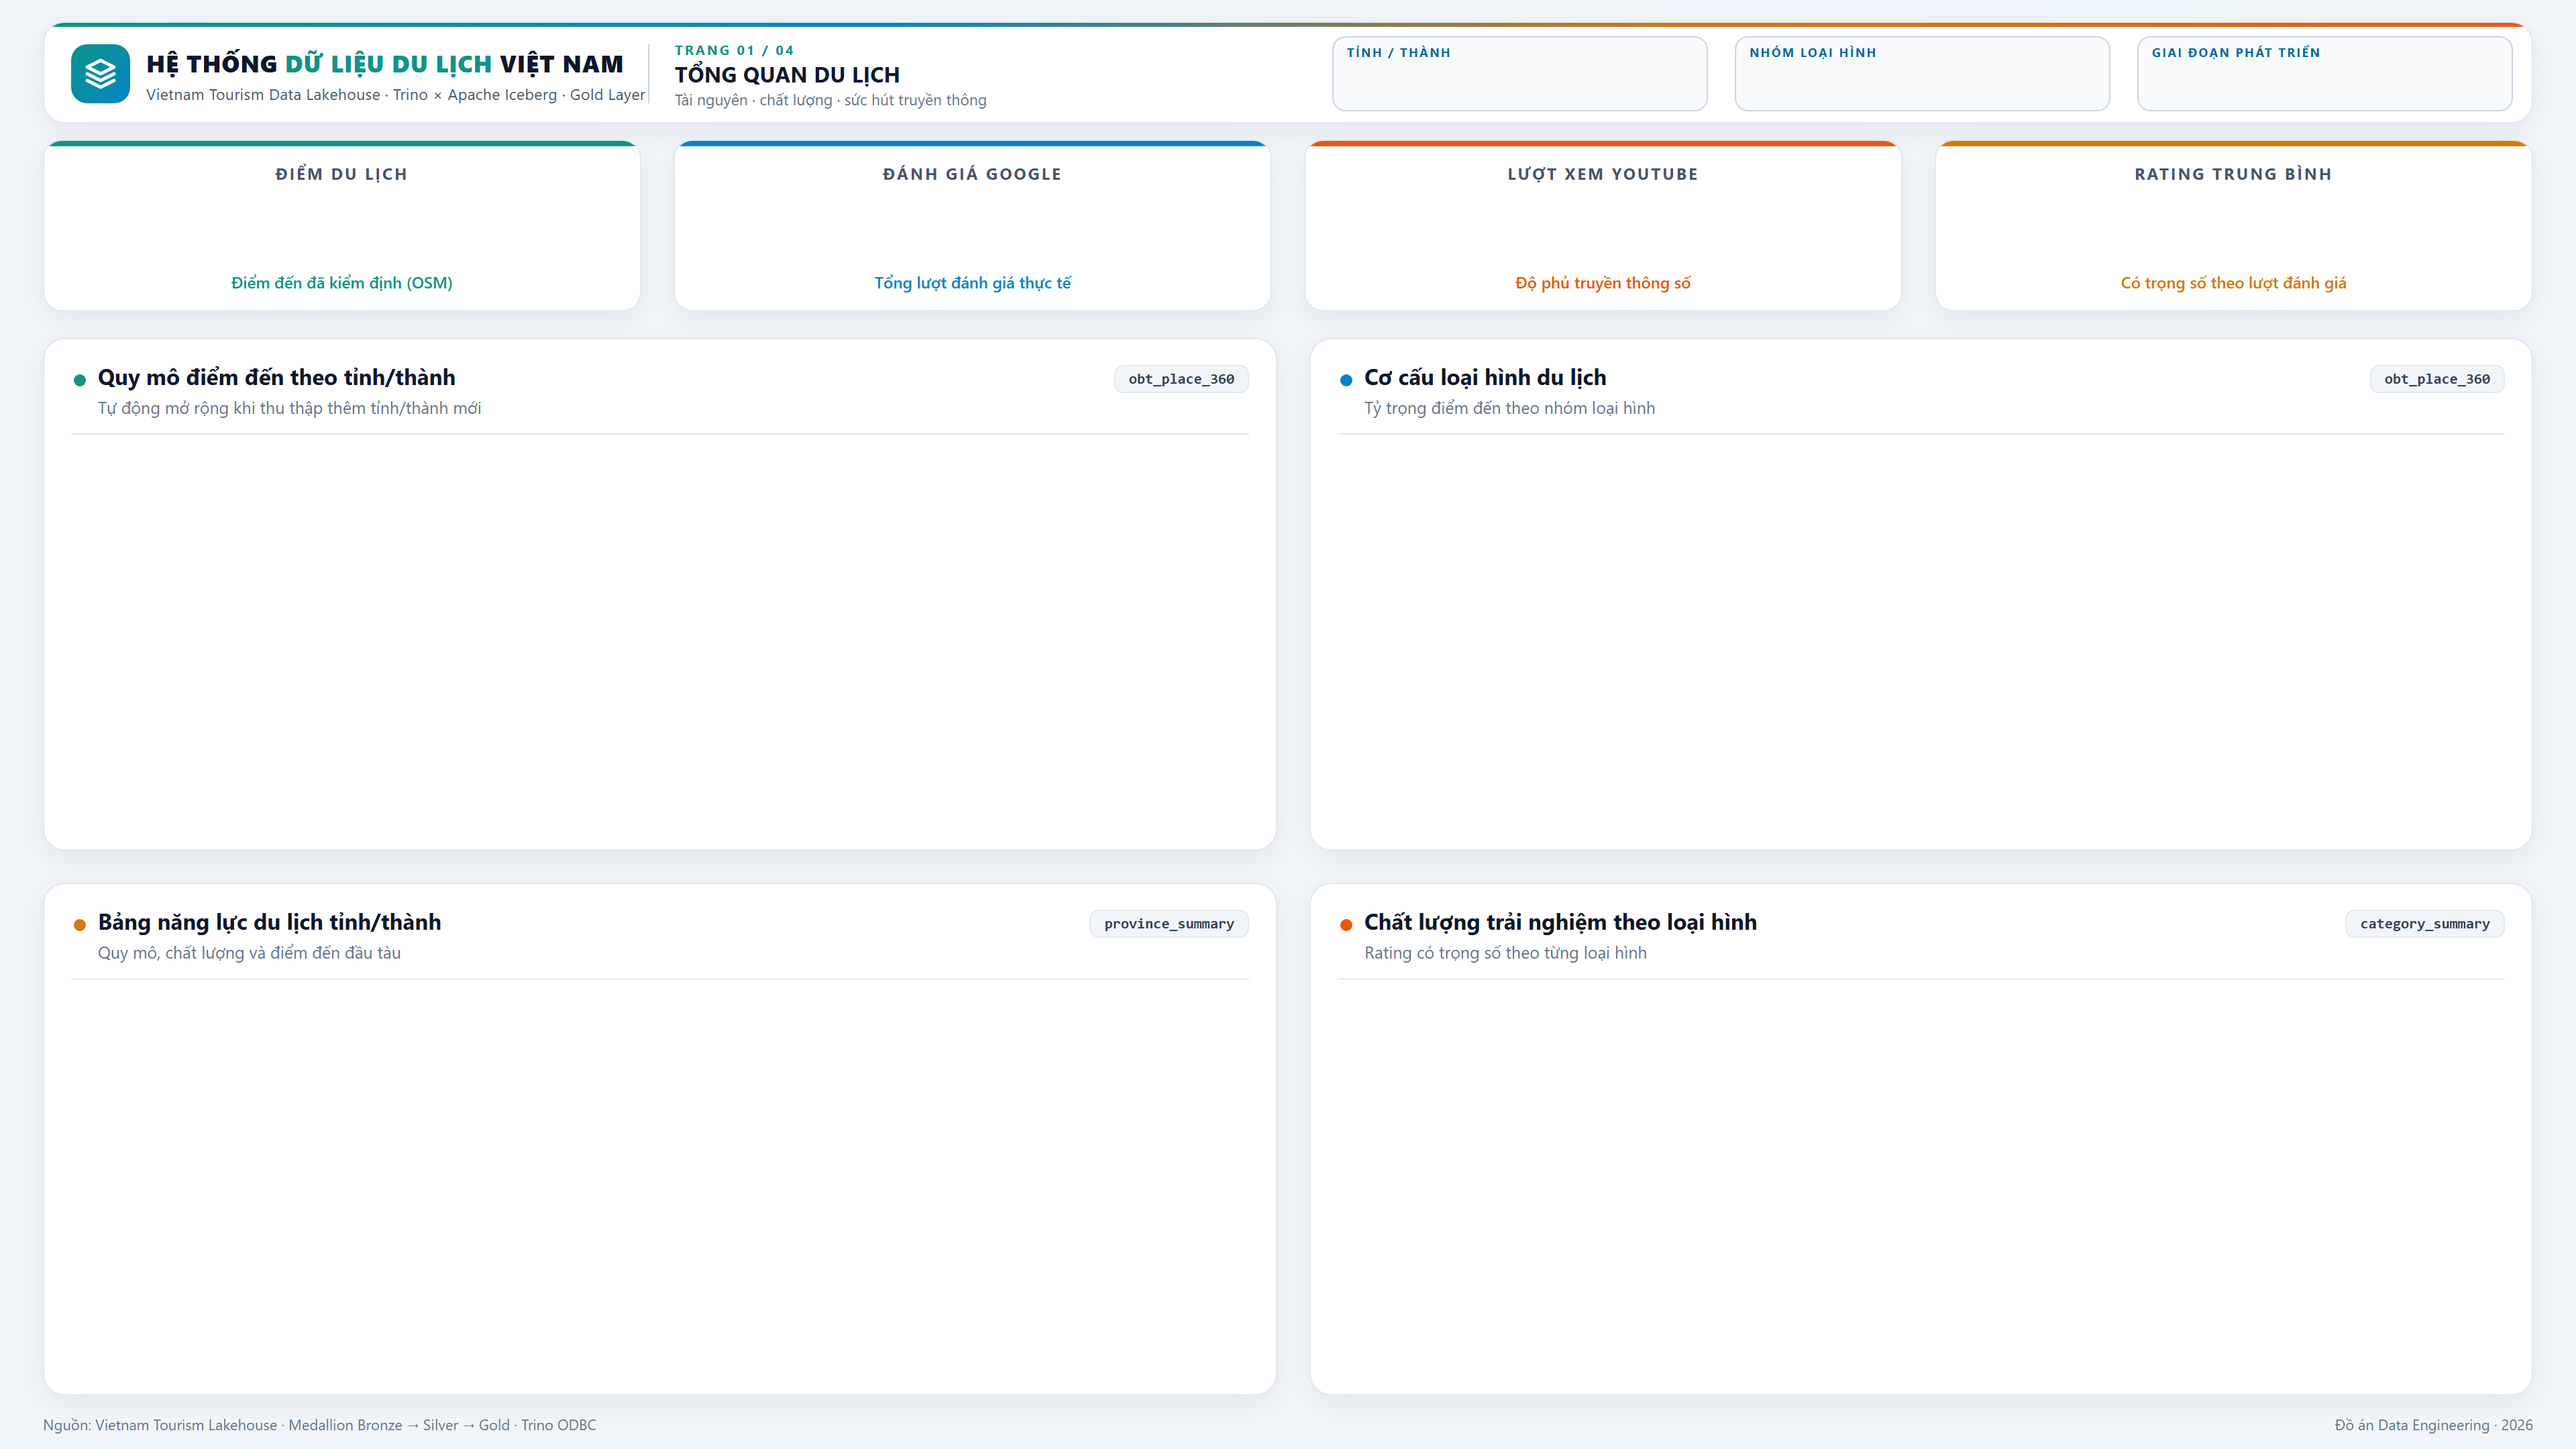

The page's visual inventory and layout, read from the dashboard file:
{"tool":"powerbi","page":{"name":"National Overview","canvas":[1920,1080],"ordinal":0},"visuals":[{"type":"textbox","box":[10,0,545.4,60.8],"z":0},{"type":"cardVisual","fields":{"Data":["Count(gold_obt_place_360_profile.place_id)"]},"box":[10,66.2,149.2,150],"z":1000},{"type":"cardVisual","fields":{"Data":["Sum(gold_fct_province_tourism_summary.total_google_review_count)"]},"box":[193.1,66.2,150,150],"z":2000},{"type":"cardVisual","fields":{"Data":["Sum(gold_fct_youtube_video_performance.crawled_comment_count)"]},"box":[373.1,66.2,193.1,150],"z":3000},{"type":"cardVisual","fields":{"Data":["Avg(gold_obt_place_360_profile.latest_google_rating)"]},"box":[586.9,66.2,178.5,150],"z":4000},{"type":"clusteredBarChart","title":"Top Provinces by Tourist Reviews","fields":{"Category":["gold_fct_province_tourism_summary.province_name"],"Y":["CountNonNull(gold_fct_province_tourism_summary.total_crawled_review_count)"]},"box":[10,261,611,819],"z":5000},{"type":"treemap","title":"Tourism Resource Allocation by Category","fields":{"Group":["gold_obt_place_360_profile.primary_category_group"],"Values":["Count(gold_obt_place_360_profile.place_id)"]},"box":[712.3,260.1,611,819],"z":6000},{"type":"clusteredColumnChart","title":"Digital Media Reach by Province (YouTube Views)","fields":{"Category":["gold_fct_province_tourism_summary.province_name"],"Y":["Sum(gold_fct_province_tourism_summary.total_youtube_views)"]},"box":[1362,262,490,818],"z":6001}]}

Visuals, with their boxes in screenshot pixels (x1, y1, x2, y2), scaled from the page's 1920x1080 canvas onto the 2576x1449 screenshot:
textbox: (13, 0, 745, 82)
cardVisual - Count(gold_obt_place_360_profile.place_id): (13, 89, 213, 290)
cardVisual - Sum(gold_fct_province_tourism_summary.total_google_review_count): (259, 89, 460, 290)
cardVisual - Sum(gold_fct_youtube_video_performance.crawled_comment_count): (500, 89, 759, 290)
cardVisual - Avg(gold_obt_place_360_profile.latest_google_rating): (788, 89, 1027, 290)
"Top Provinces by Tourist Reviews" clusteredBarChart: (13, 350, 833, 1448)
"Tourism Resource Allocation by Category" treemap: (956, 349, 1776, 1448)
"Digital Media Reach by Province (YouTube Views)" clusteredColumnChart: (1827, 352, 2485, 1448)
